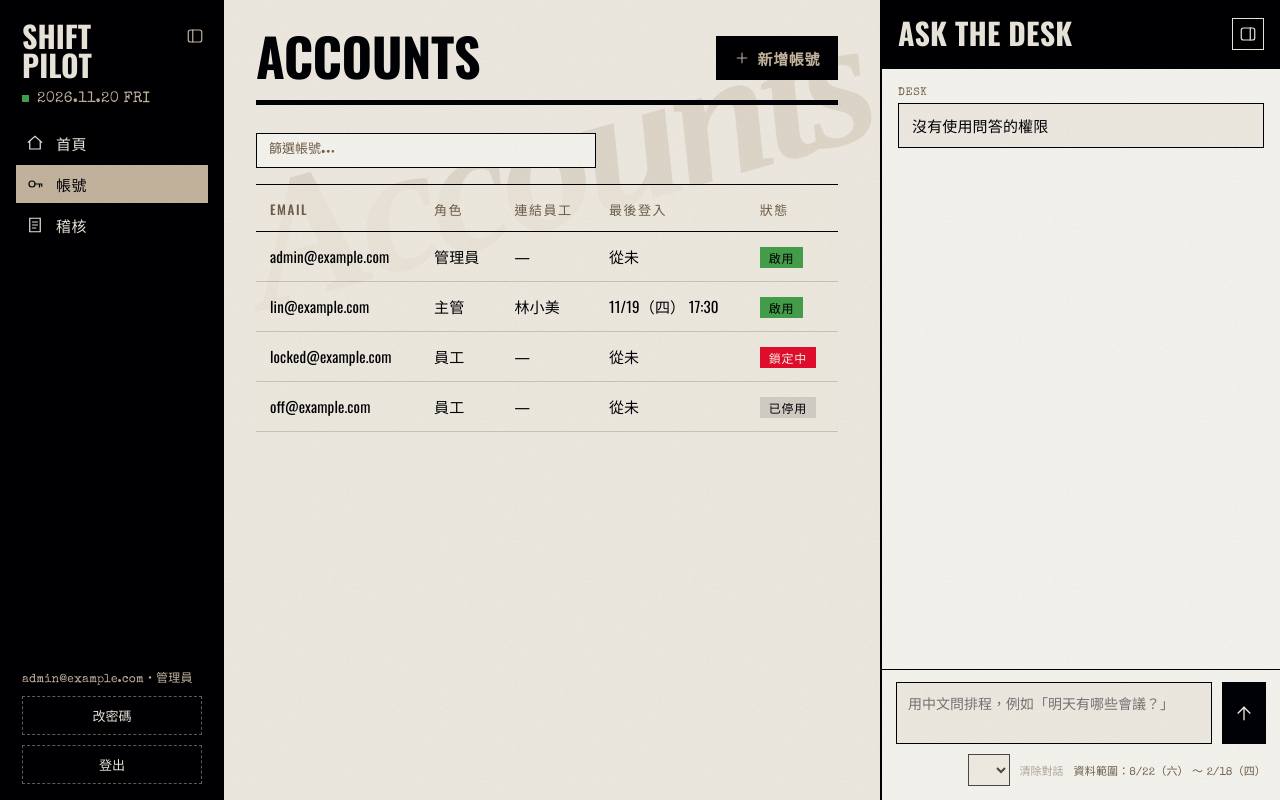
testCreateUserValidatesPasswordLength
The width and height of the screenshot is (1280, 800).
Click the button "新增帳號": point(777, 58) left=716, top=36, right=838, bottom=80
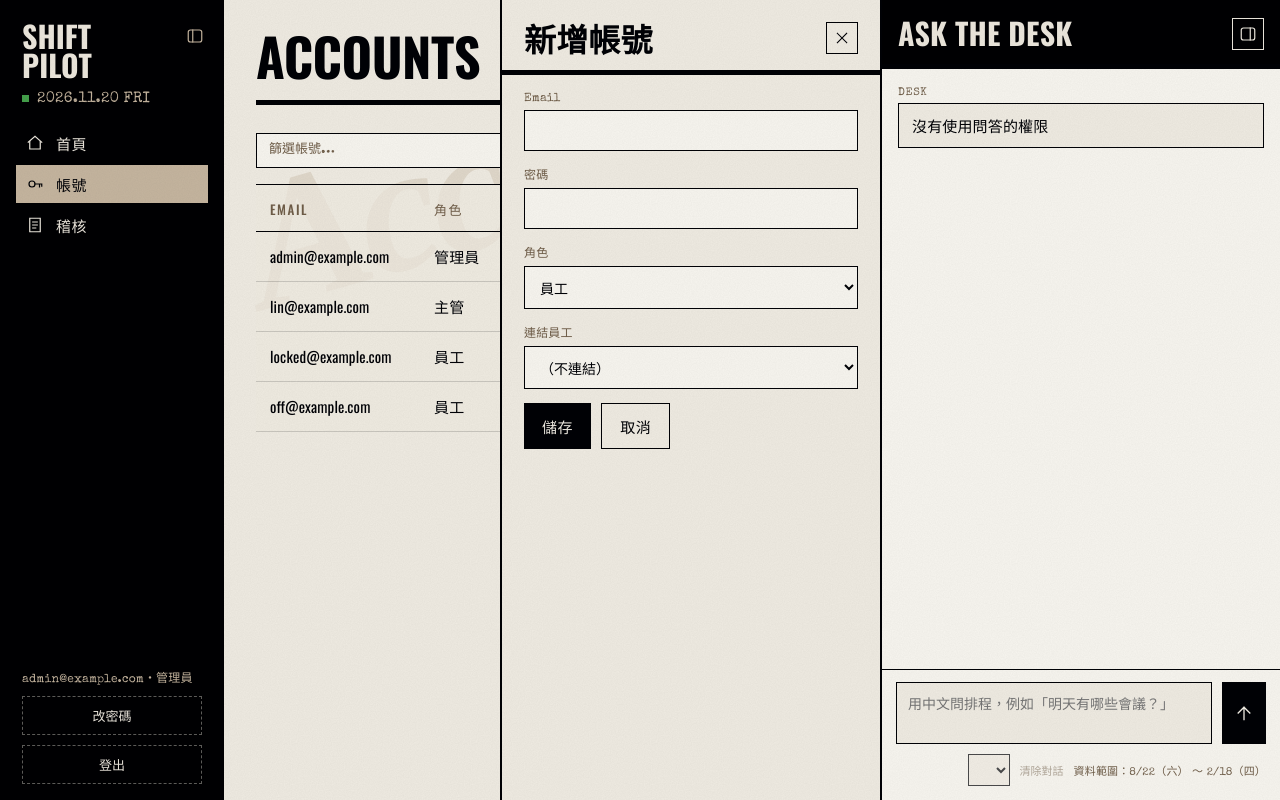
In the field labelled "Email": point(691, 130) left=524, top=110, right=858, bottom=151, type "new@example.com"
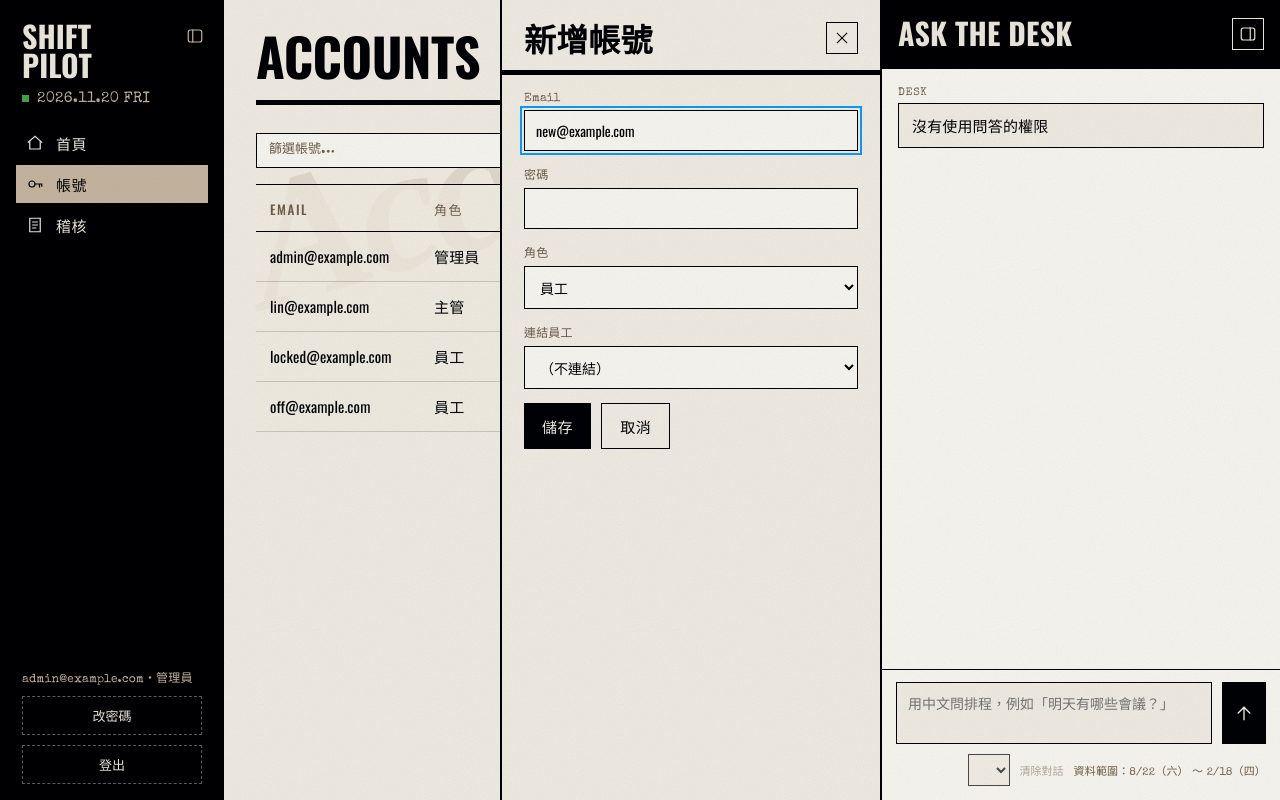
In the password field labelled "密碼": point(691, 208) left=524, top=188, right=858, bottom=229, type "short12"
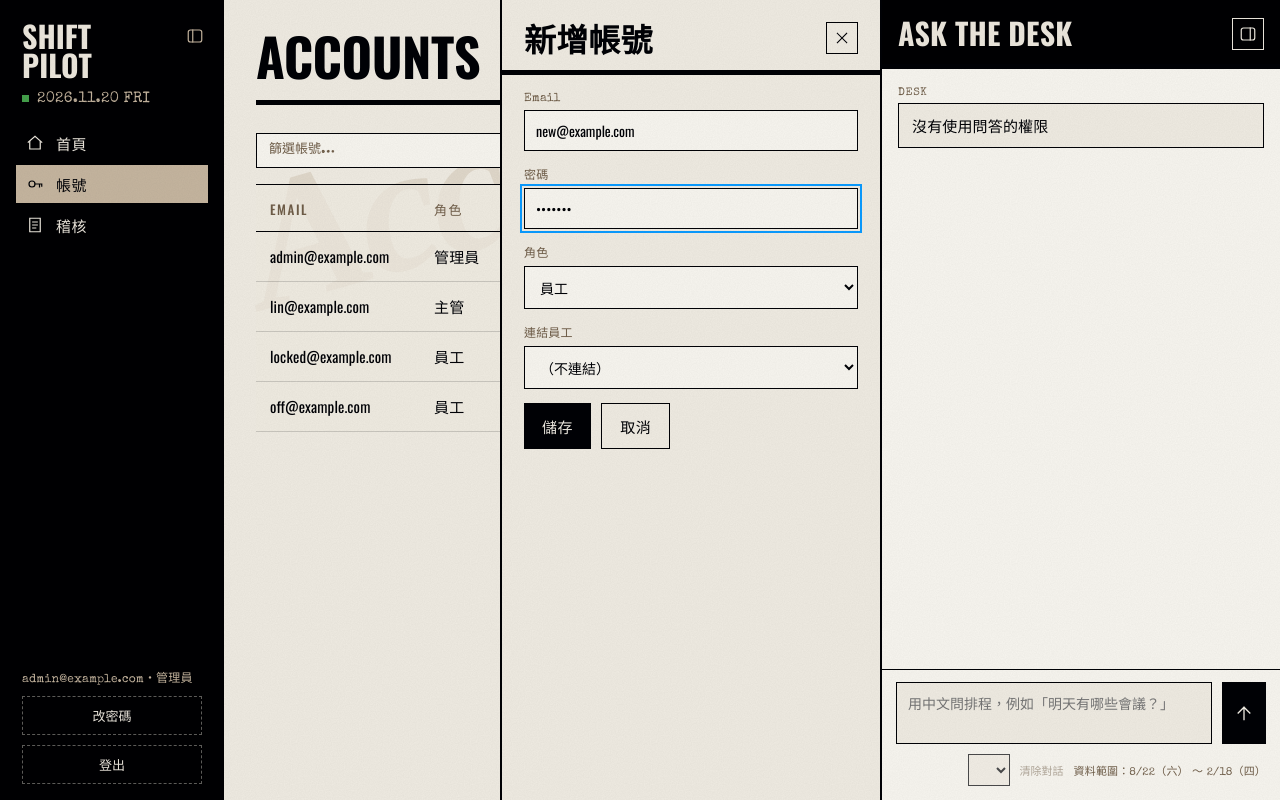
Click the button "儲存": point(558, 426) left=524, top=403, right=591, bottom=449
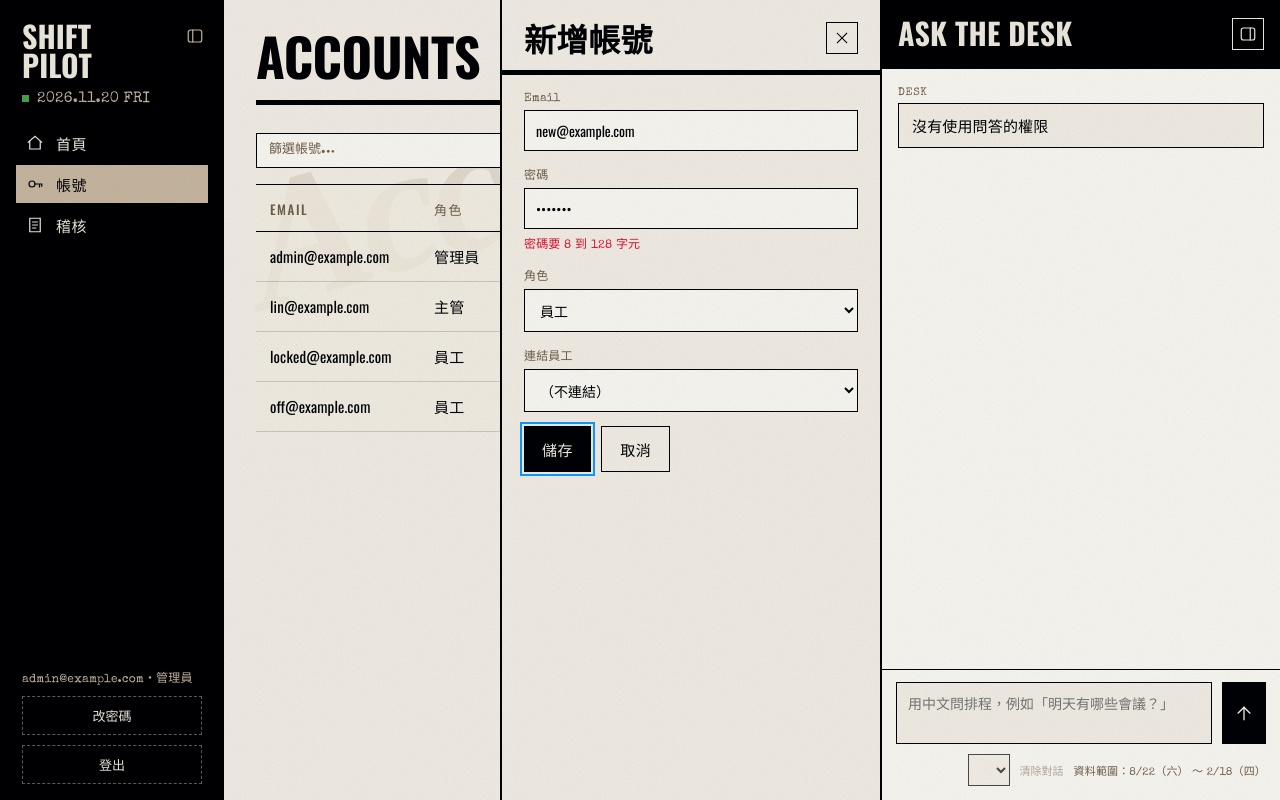
Now the text "密碼要 8 到 128 字元" is shown, box left=524, top=240, right=640, bottom=252
